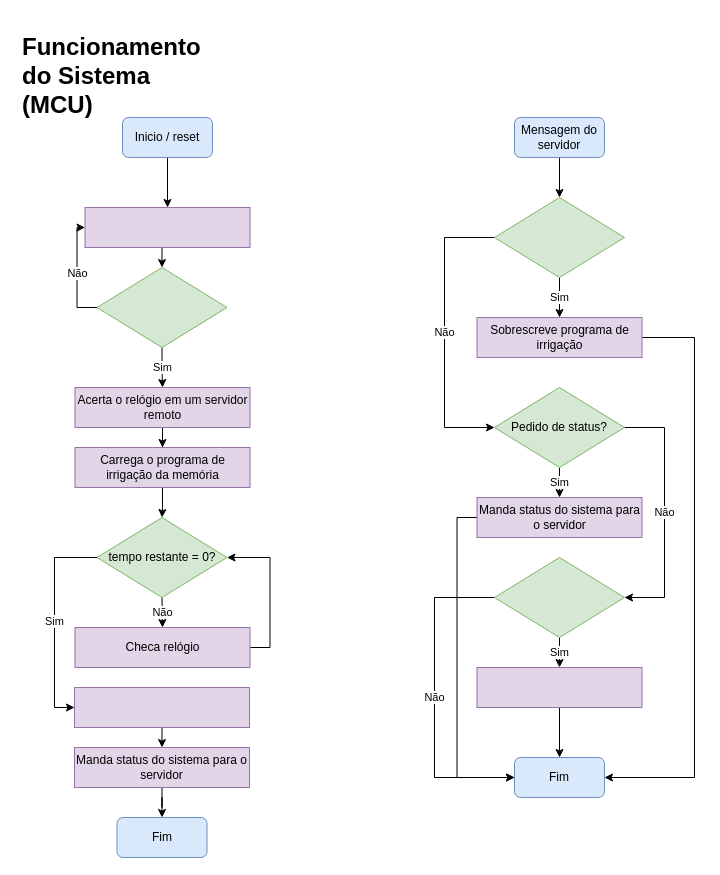
Some shapes in this 720 by 875 pixel diagram are drawn without their labels. Each missing label, with the box of its shape:
Irriga plantas: (74, 686, 250, 728)
Irrigar plantas usando os dados do programa atual: (476, 666, 642, 708)
MCU conectado?: (96, 266, 227, 348)
Novo programa?: (494, 196, 624, 278)
Ordem de irrigação?: (494, 556, 624, 638)
Tenta conectar com uma rede wi-fi: (84, 206, 250, 248)
